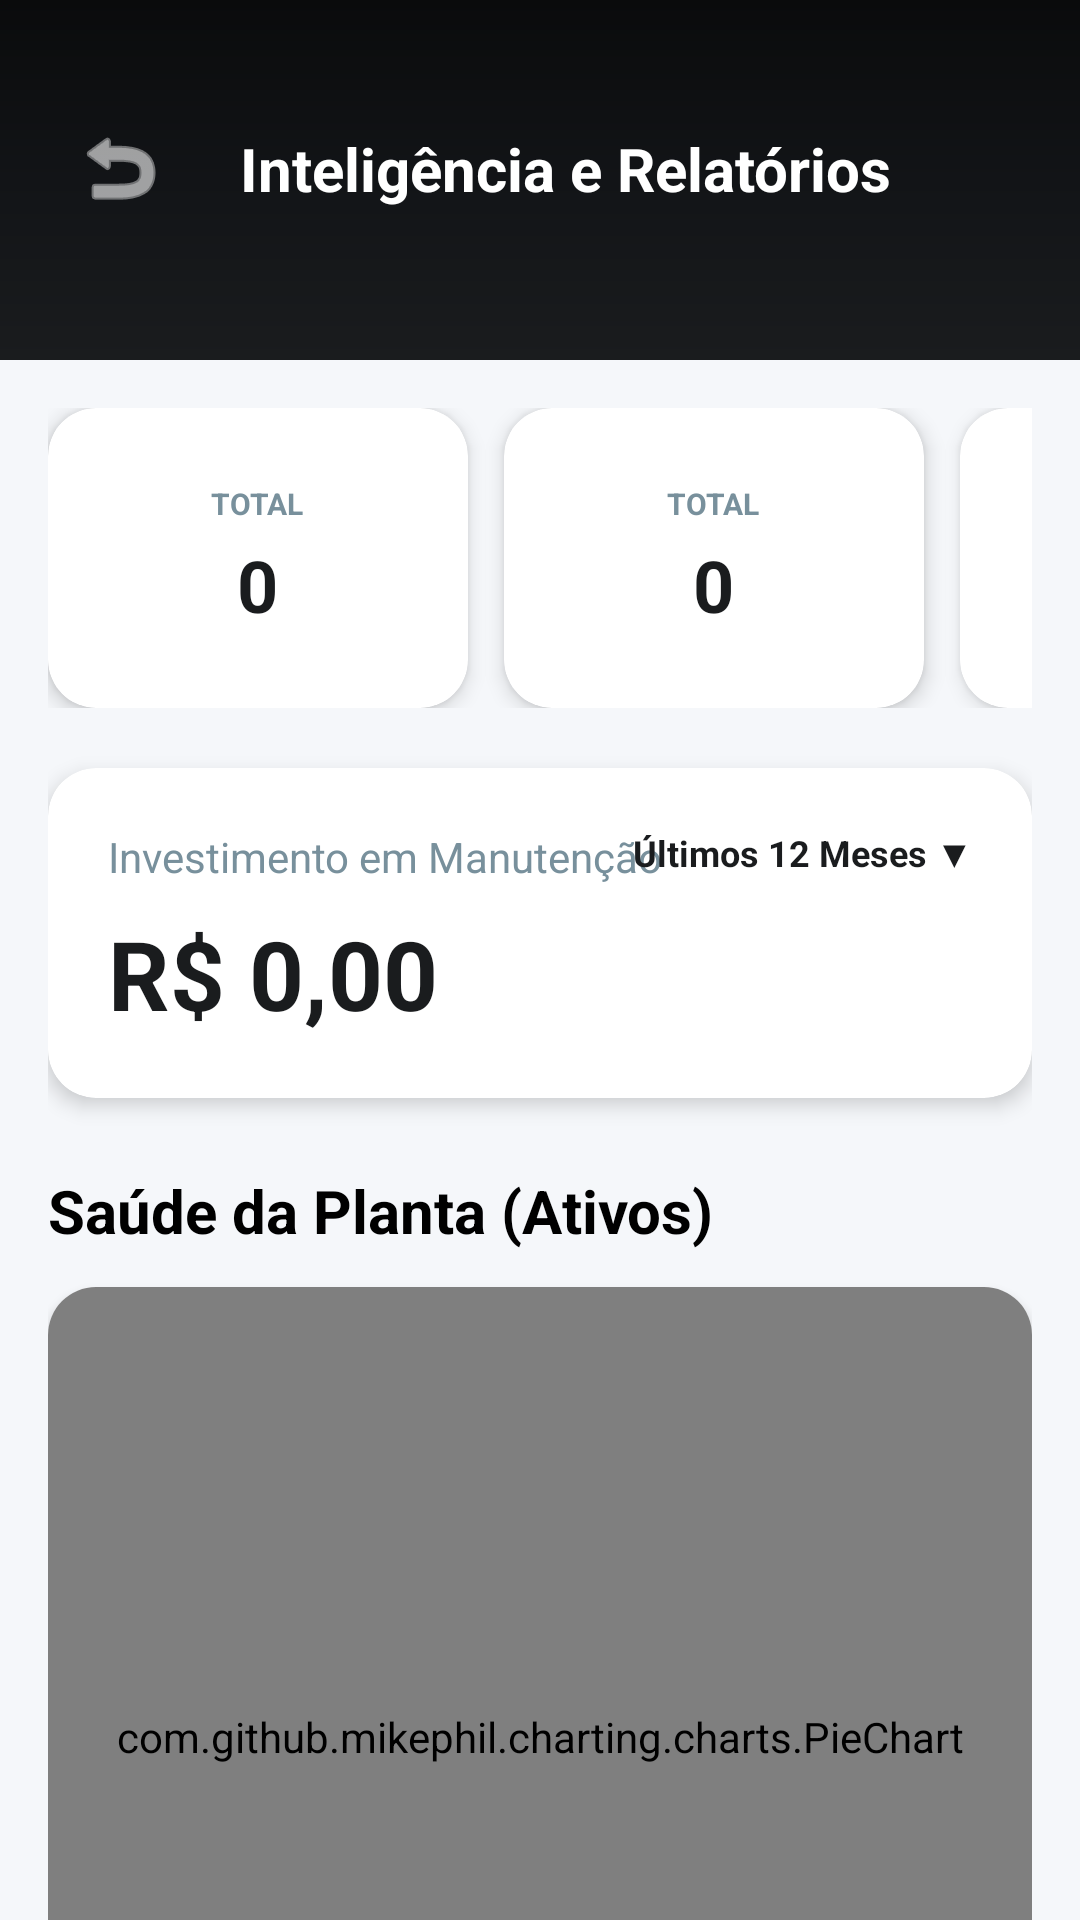

Screen size 1080 x 1920. Icon name, then its box in pixels as (x1, y1, x2, y2):
revert: (87, 137, 156, 200)
